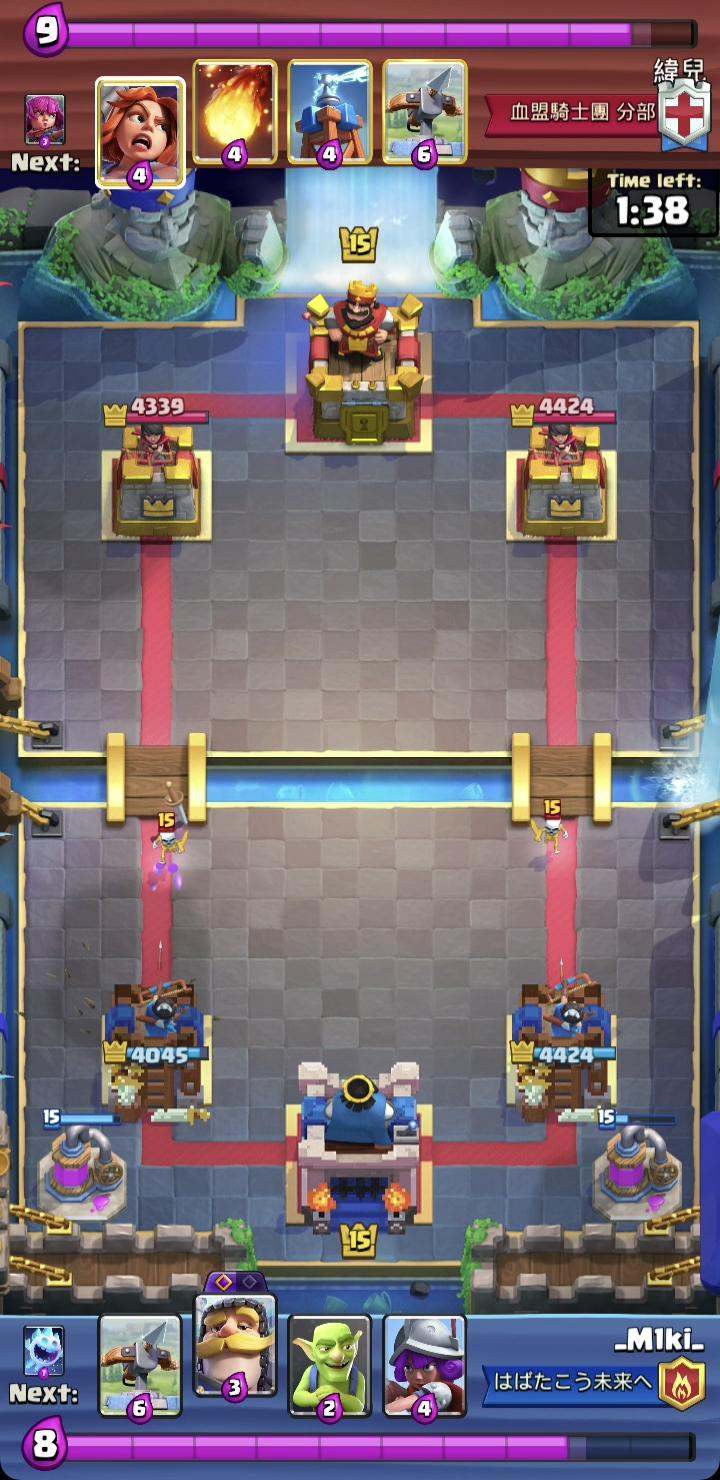ally_elixirpump: (33, 1109, 131, 1226), (591, 1108, 687, 1225)
enemy_skeleton: (150, 808, 192, 871), (531, 797, 571, 859)
